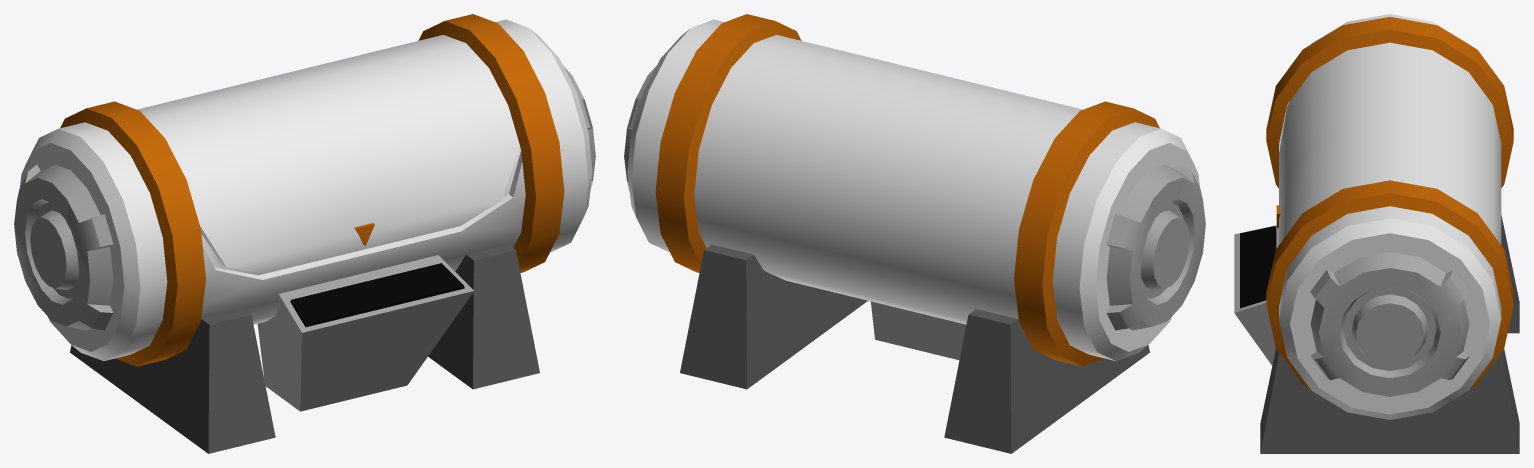
File: Tank3.fbx
3 renders of one model, left to right at view 1: azimuth 30°, elevation 25°; view 2: azimuth 150°, elevation 25°; view 3: azimuth 270°, elevation 25°, orthographic. The views are drawn at different scales.
Parts seen in each view (by area): view 1: pCube6; view 2: pCube6; view 3: pCube6.
Part boxes in pixels (box(x1,y1,x2,y2)): pCube6: box(14, 14, 595, 453); pCube6: box(624, 14, 1205, 453); pCube6: box(1234, 14, 1519, 453).
Size of the model in its own units: 274 by 141 by 149.
